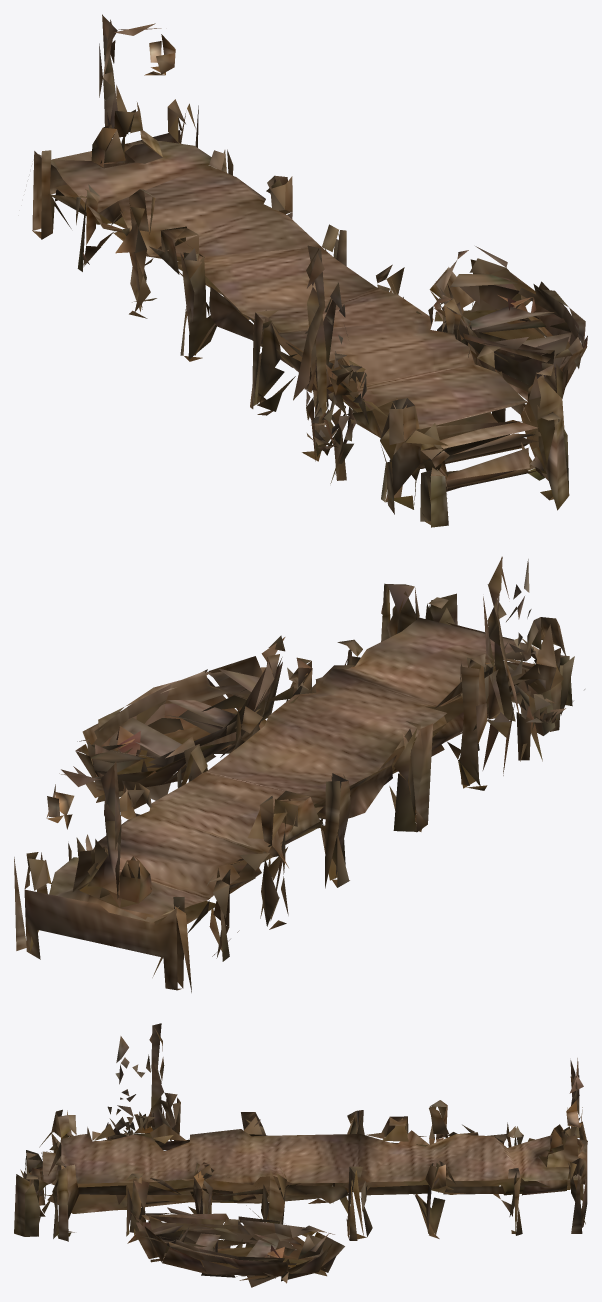
File: pier_lod2.glb
The picture shows the model from 3 angles, top to bottom: view 1: azimuth 30°, elevation 25°; view 2: azimuth 150°, elevation 25°; view 3: azimuth 270°, elevation 25°; orthographic projection. The views are drawn at different scales.
Visible parts, largest first — view 1: pier; view 2: pier; view 3: pier.
Part boxes in pixels (x1=…): pier: x1=32, y1=14, x2=587, y2=527; pier: x1=14, y1=556, x2=584, y2=992; pier: x1=14, y1=1023, x2=587, y2=1287.
Bounding box in the file's own units: 4.07 × 2.54 × 8.13.
Materials: 1 (1 with a texture image).
